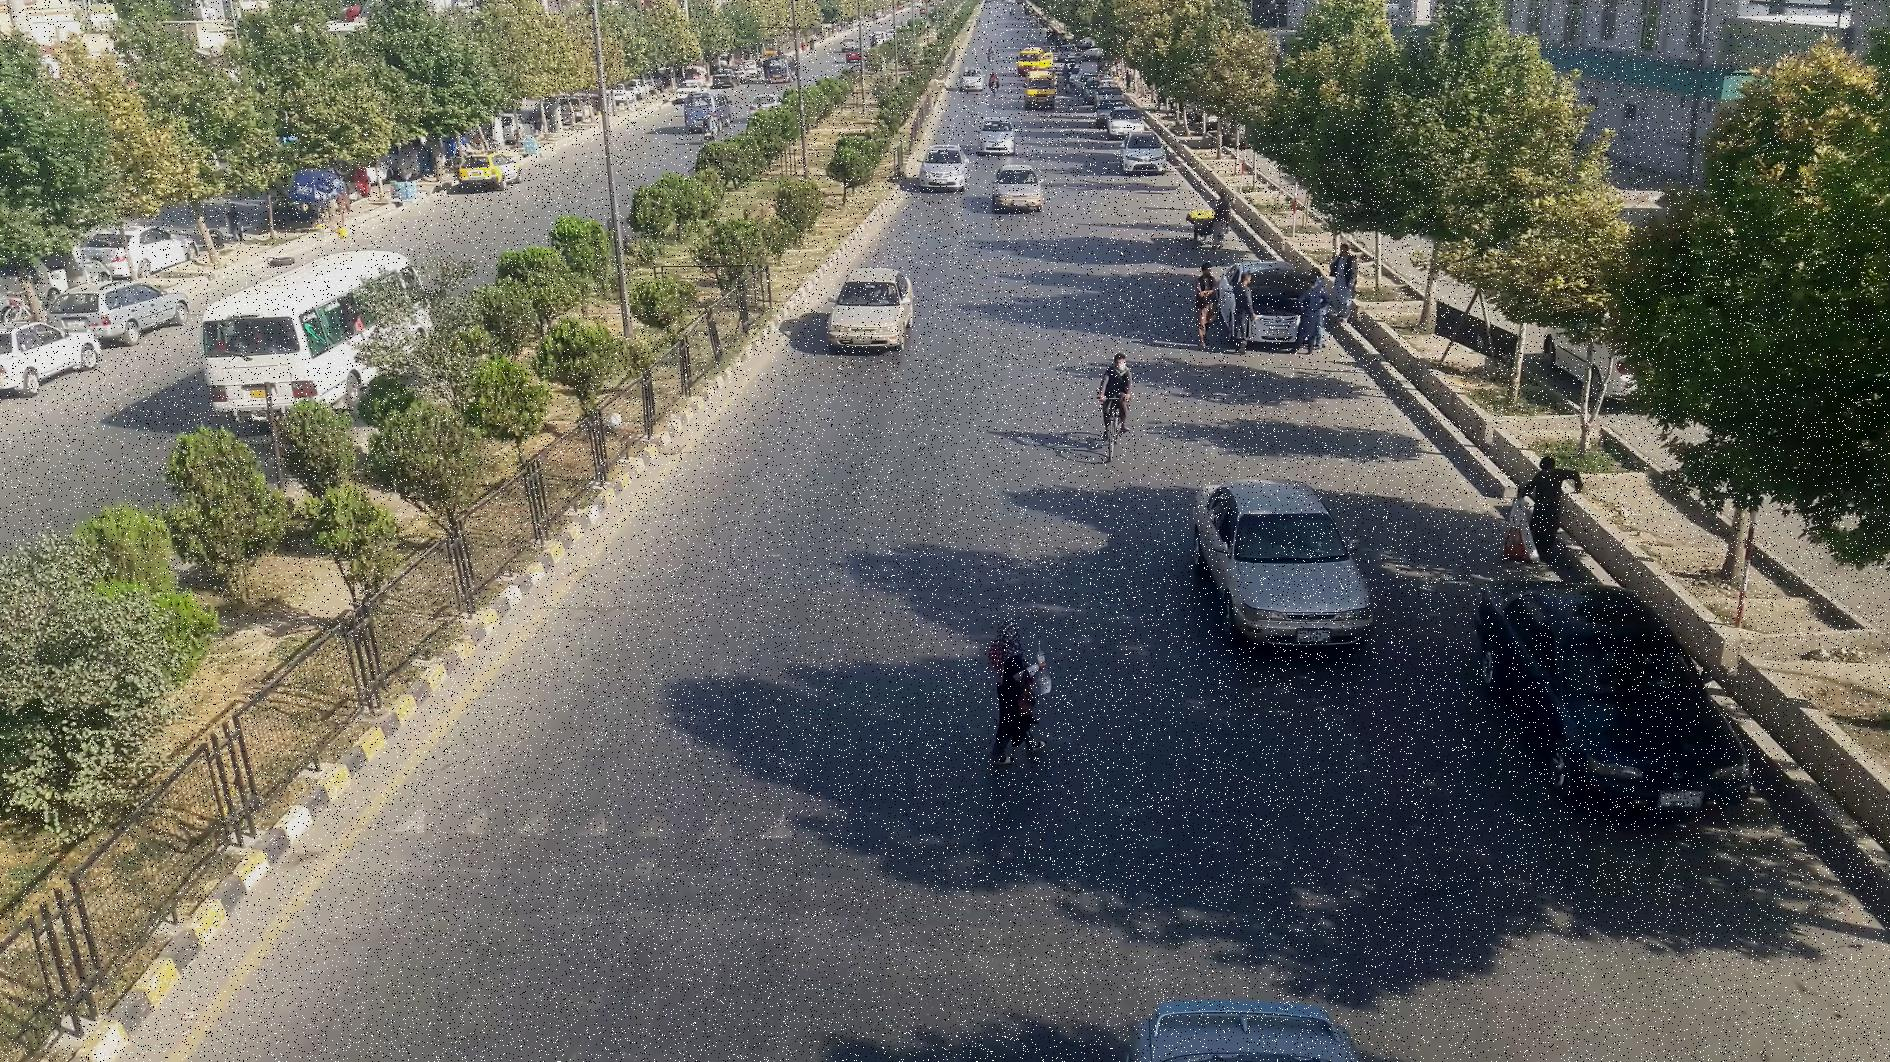bike: (702, 113, 723, 142)
bus: (188, 248, 440, 426)
car: (1464, 579, 1761, 818), (1188, 471, 1373, 649), (0, 327, 99, 405), (74, 284, 188, 347), (827, 269, 913, 349), (984, 167, 1040, 216), (460, 152, 524, 192), (918, 144, 967, 190), (1119, 135, 1168, 175), (683, 91, 732, 130), (976, 116, 1022, 156), (748, 95, 781, 118), (958, 71, 989, 90)
